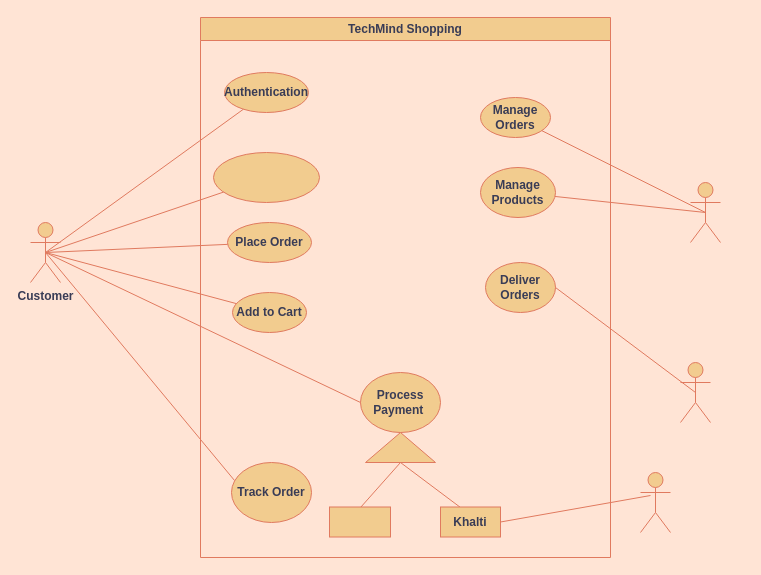
This 761x575 diagram has some shape labels left out. Each missing label, with the centre of its shape:
Admin: point 705,212
Browse Products: point 266,177
COD: point 359,521
Payment System: point 655,502
Shipping Service: point 695,392
